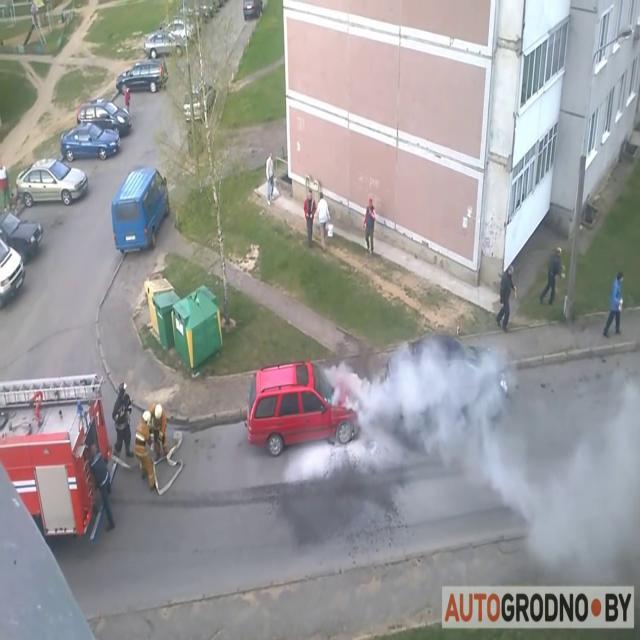Smoke: (259, 321, 546, 505)
